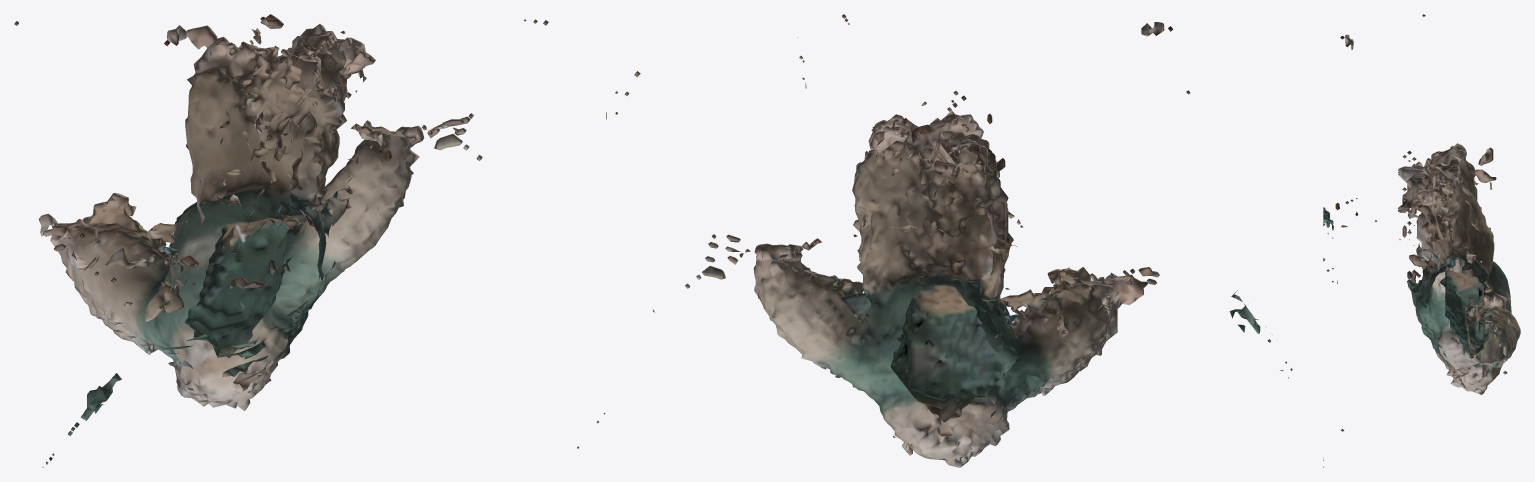
File: sloth.glb
3 views of the same model, side by side, from view 1: azimuth 30°, elevation 25°; view 2: azimuth 150°, elevation 25°; view 3: azimuth 270°, elevation 25° (orthographic). The views are drawn at different scales.
Parts seen in each view (by area): view 1: world; view 2: world; view 3: world.
Boxes of the visible parts, x1=… form: world: x1=14, y1=14, x2=654, y2=467; world: x1=685, y1=14, x2=1292, y2=467; world: x1=1323, y1=14, x2=1520, y2=467.
Bounding box in the file's own units: 0.47 × 0.361 × 0.206.
